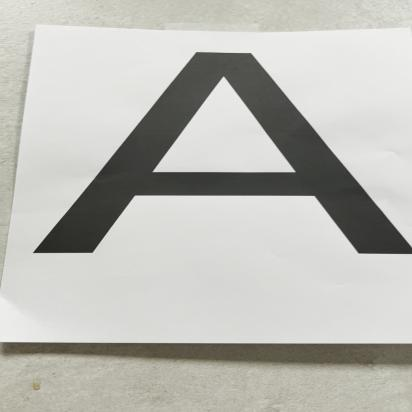seat: (18, 32, 412, 260)
